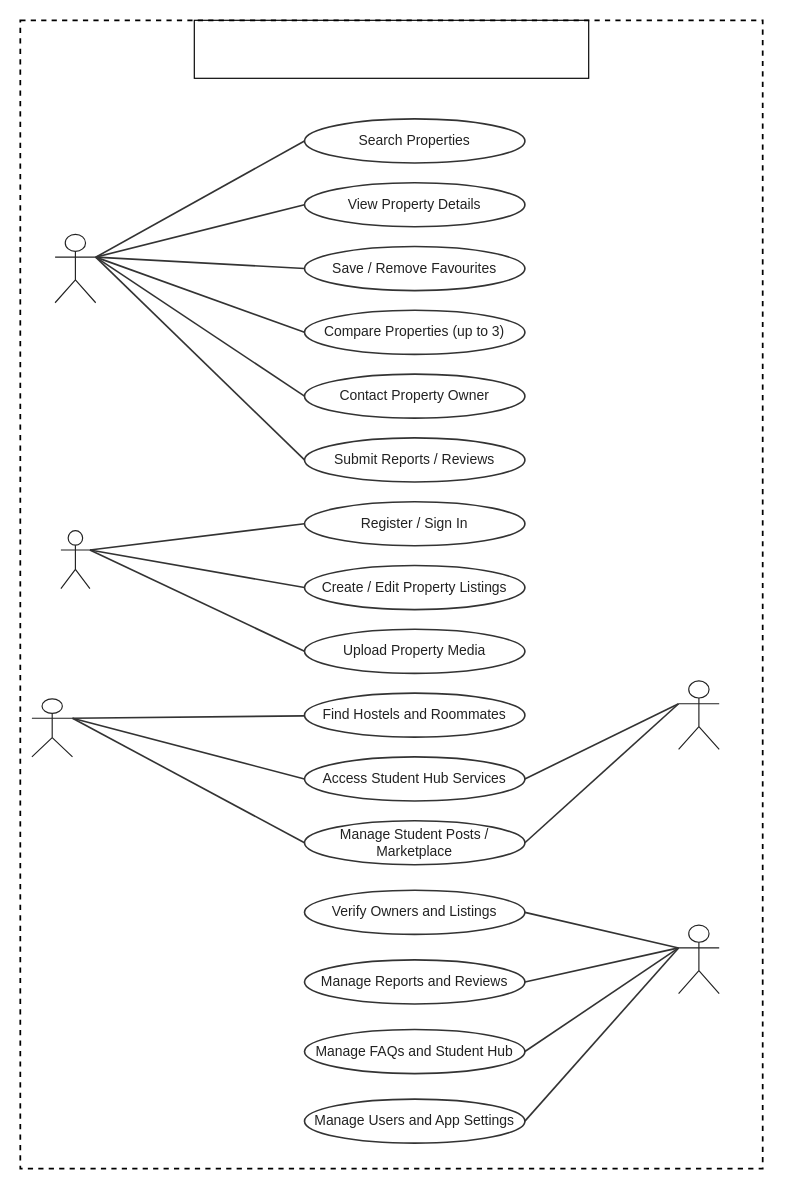
Image size: 785x1190. Some labels were removed from this diagram. Here are the shapes that lost their labels. From the top down, the box of each, then its label:
(193, 19, 589, 78): PROPERTY KONNECT (PK) Use Case Diagram
(54, 233, 96, 303): Public User / Property Seeker
(60, 530, 90, 589): Property Owner
(31, 698, 72, 757): Student
(677, 680, 719, 749): Service Provider / Post Owner
(677, 924, 719, 994): System Administrator
